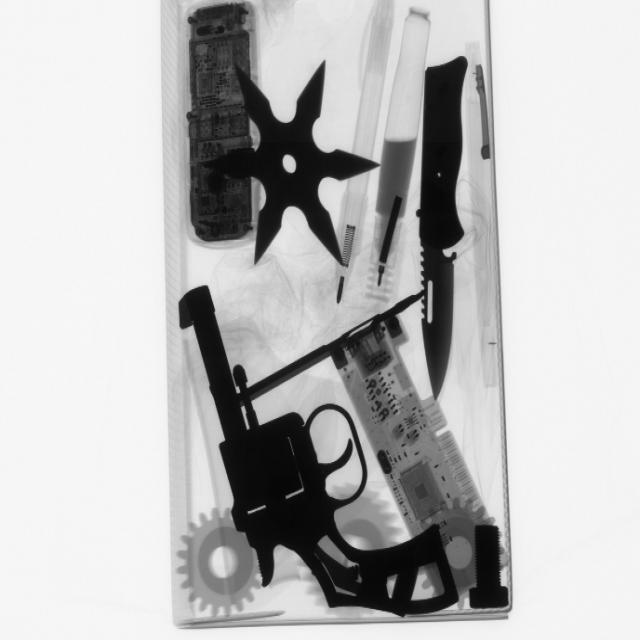GUN: (178, 280, 465, 631)
KNIFE: (406, 55, 481, 393)
SHURIKEN: (211, 56, 376, 269)
